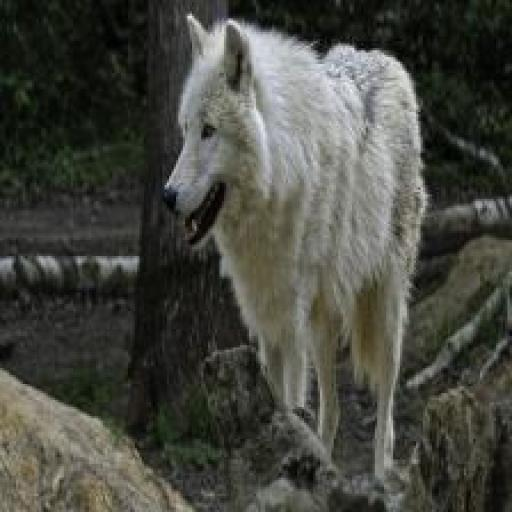wolf: (160, 9, 427, 495)
